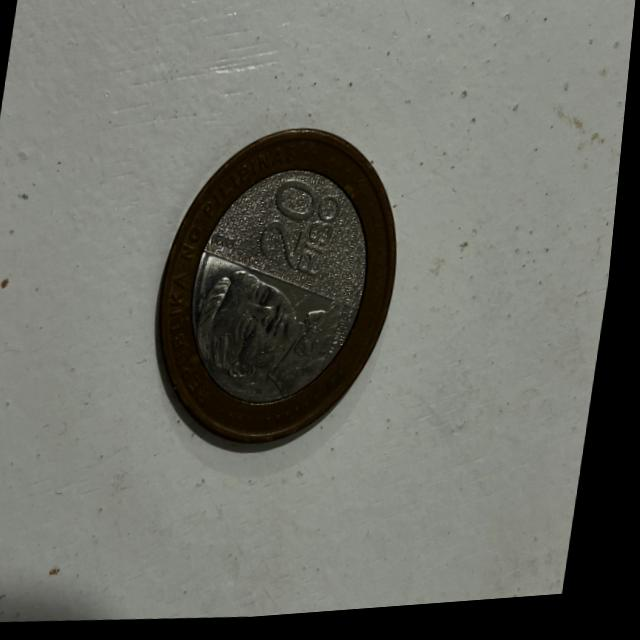20_New_Front: (254, 185, 356, 291)
